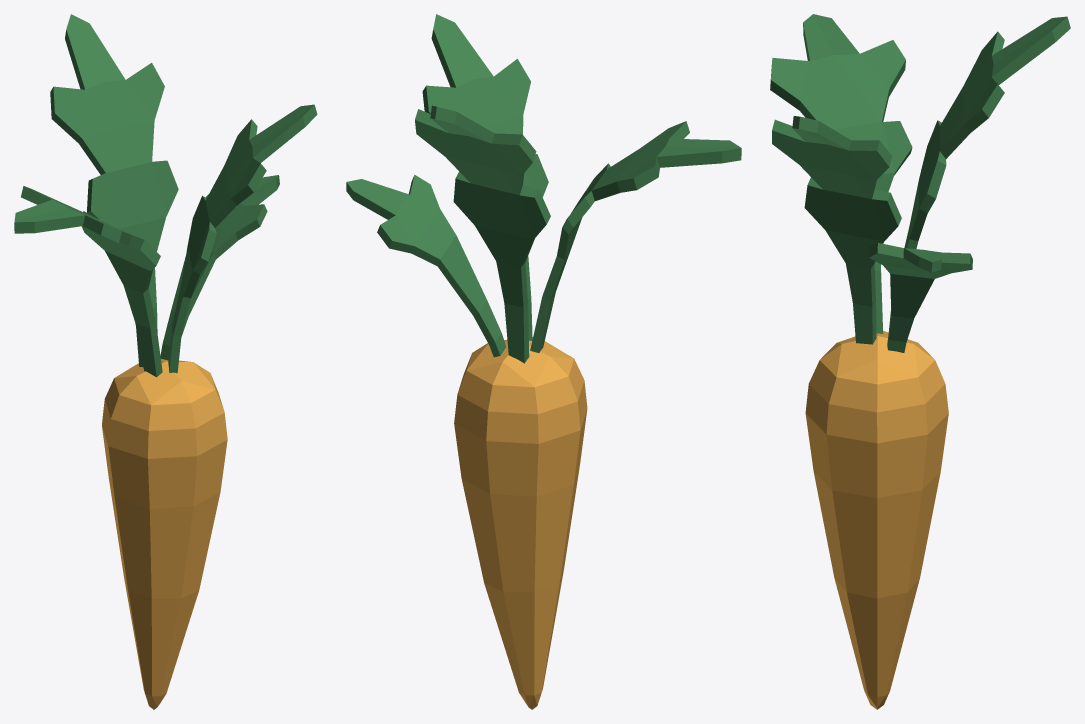
Rendered from Carrot_4-optimized.glb.
3 views of the same model, side by side, from view 1: azimuth 30°, elevation 25°; view 2: azimuth 150°, elevation 25°; view 3: azimuth 270°, elevation 25° (orthographic). The views are drawn at different scales.
Parts seen in each view (by area): view 1: Carrot_4; view 2: Carrot_4; view 3: Carrot_4.
Boxes of the visible parts, box(x1,y1,x2,y2) form: Carrot_4: box(14, 14, 317, 709); Carrot_4: box(346, 14, 741, 709); Carrot_4: box(770, 14, 1070, 709).
Size of the model in its own units: 0.6765 by 1.28 by 0.5016.
